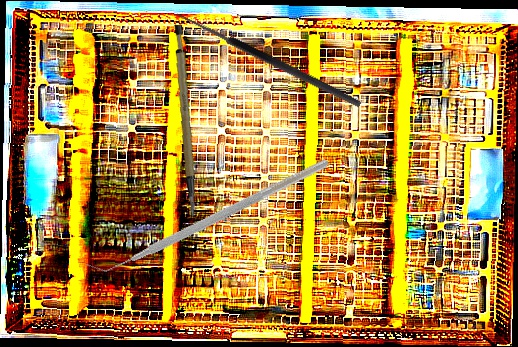Chopper: (84, 80, 330, 346)
Hook Surgical: (168, 8, 363, 118)
Scalpel Handle: (158, 24, 209, 218)
